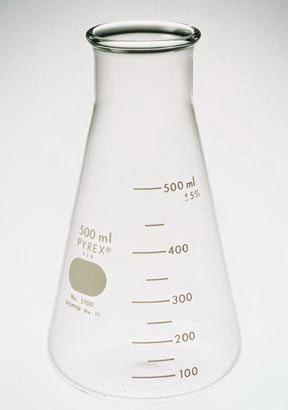Titrarion: (36, 17, 243, 394)
